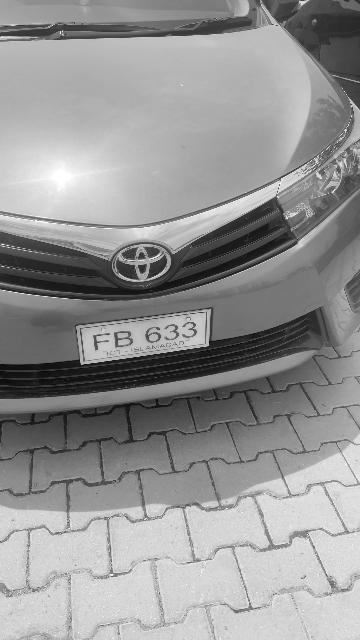Number: (87, 316, 200, 353)
